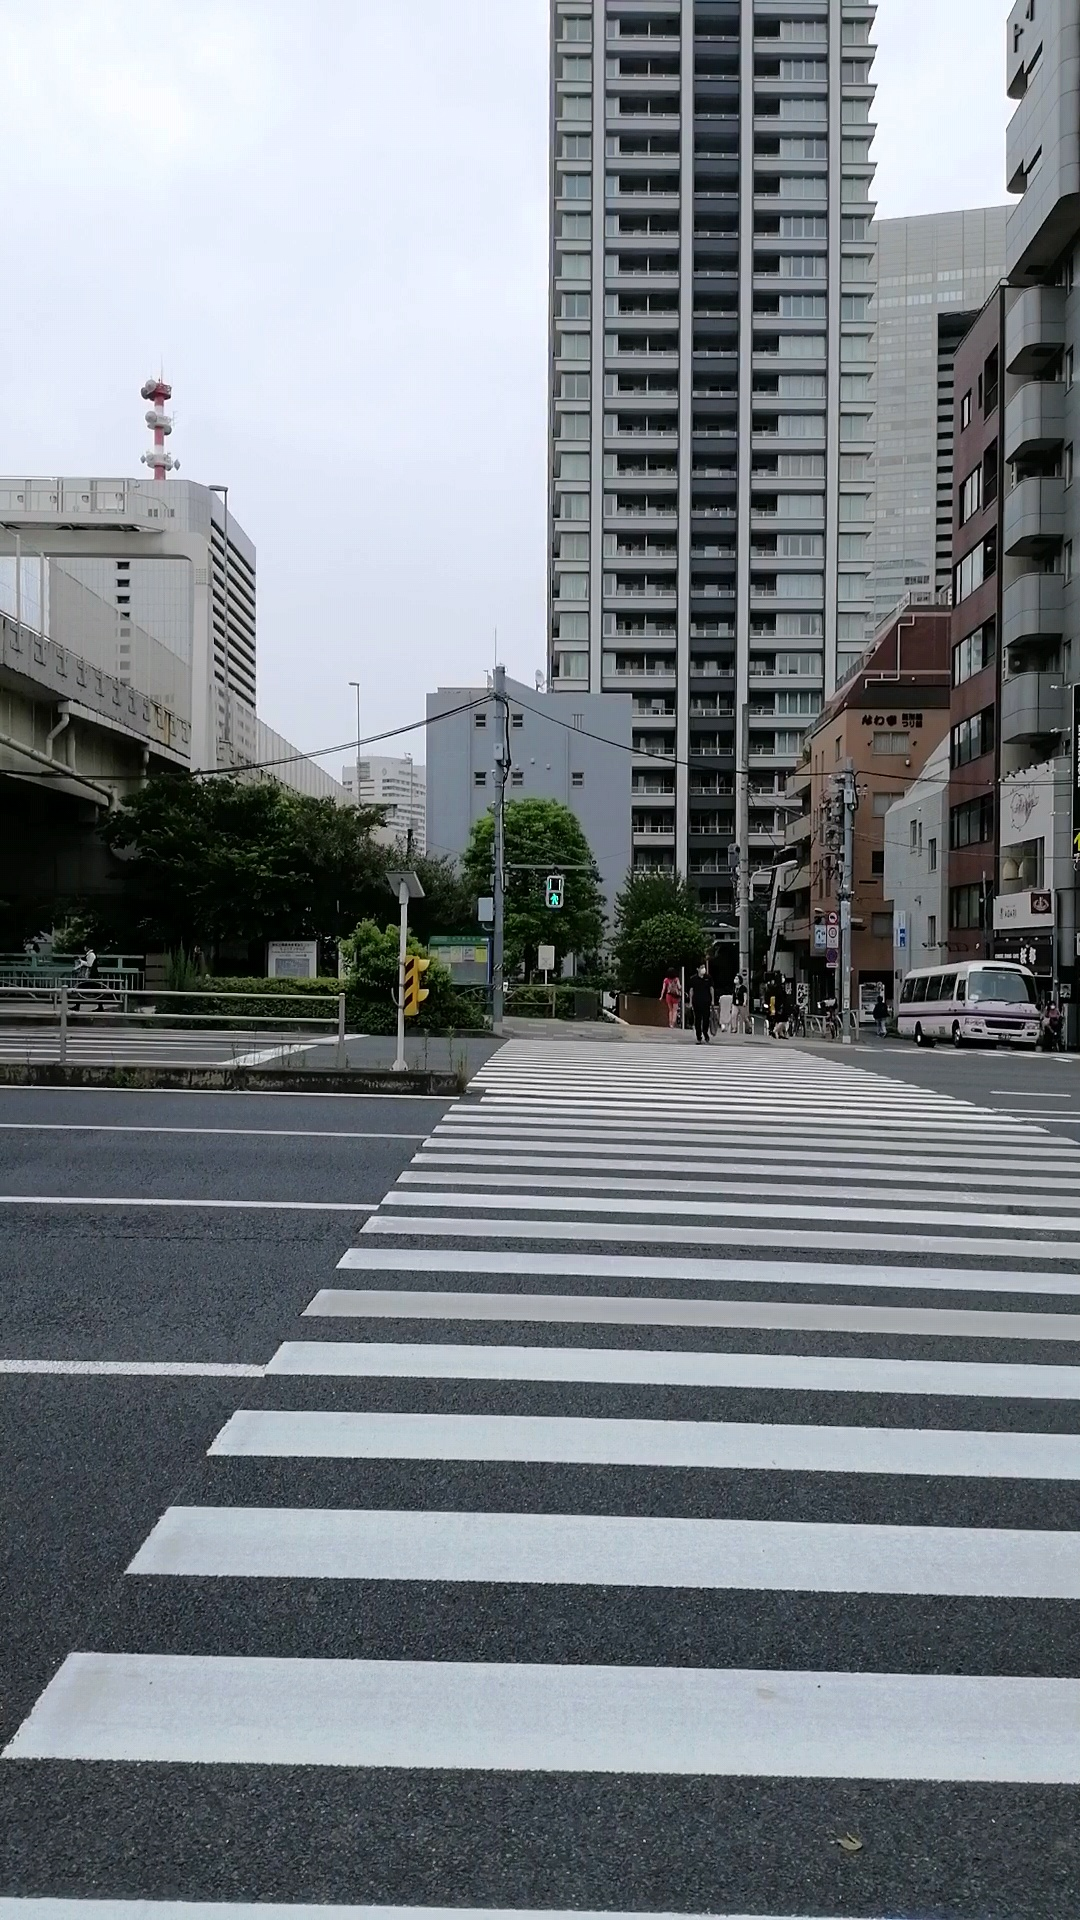green: (545, 873, 563, 907)
